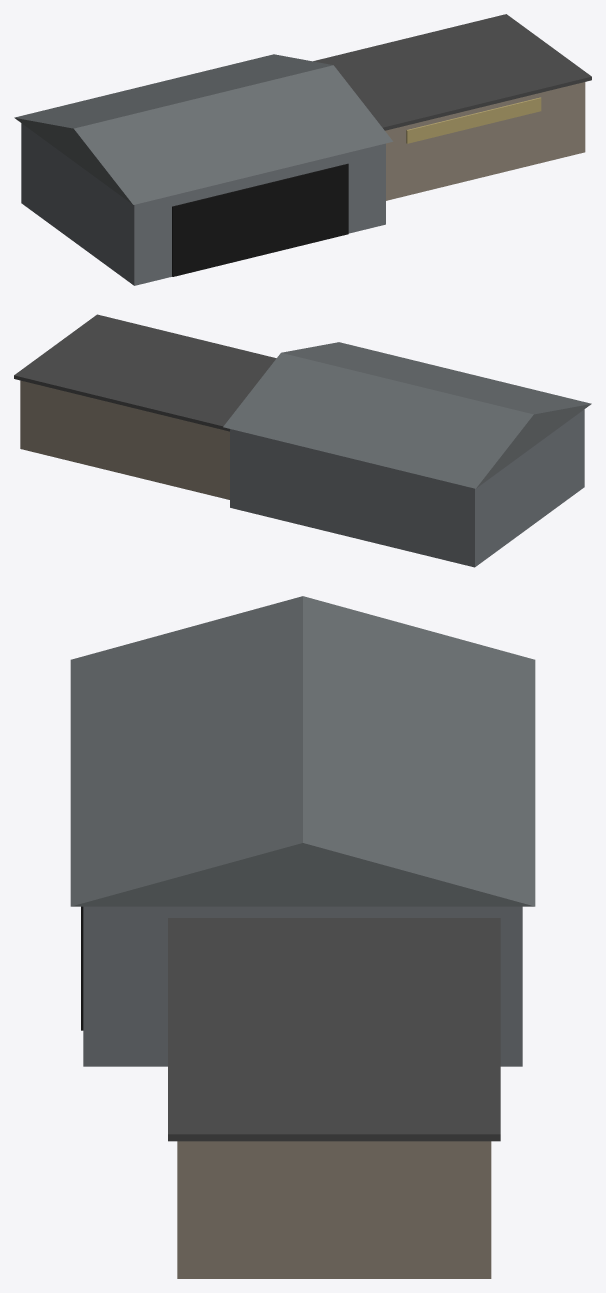
File: machinery_dealer.glb
The picture shows the model from 3 angles, top to bottom: view 1: azimuth 30°, elevation 25°; view 2: azimuth 150°, elevation 25°; view 3: azimuth 270°, elevation 25°; orthographic projection. The views are drawn at different scales.
Visible parts, largest first — view 1: shed, store; view 2: shed, store; view 3: shed, store.
Part boxes in pixels (x1,y1,x2,y2): shed: (14, 54, 392, 285); store: (313, 14, 591, 200); shed: (223, 342, 591, 567); store: (14, 314, 276, 499); shed: (70, 596, 535, 1066); store: (168, 918, 500, 1278).
Size of the model in its own units: 34.6 by 8 by 14.8.
